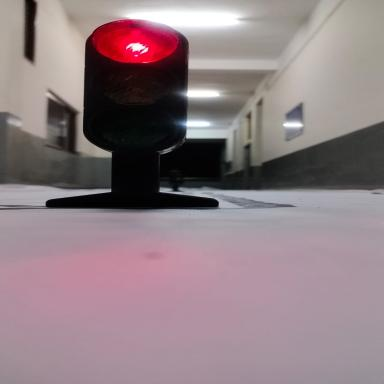traffic red: (63, 10, 257, 223)
